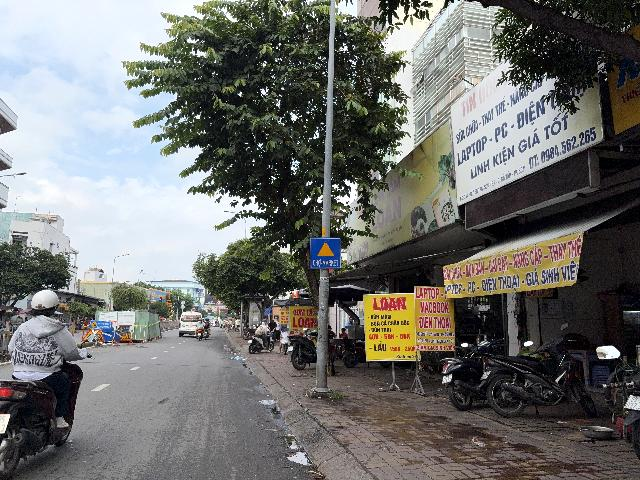khu-vuc-cho-phia-truoc: (310, 237, 340, 269)
